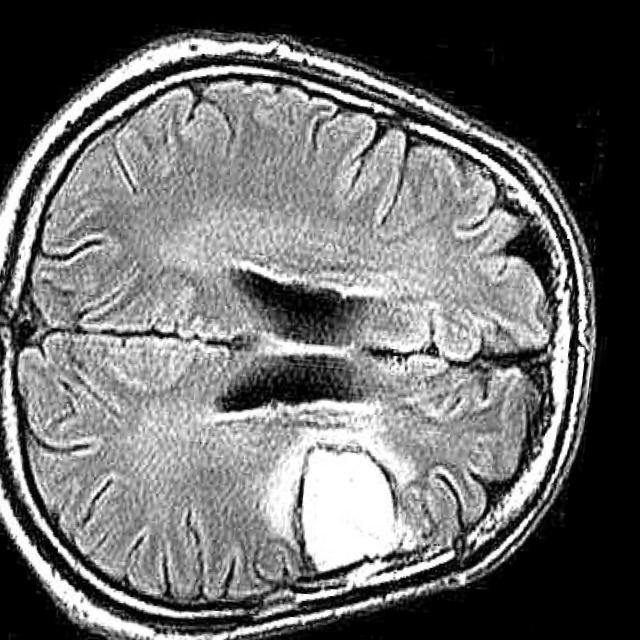Tumor: (311, 440, 407, 567)
